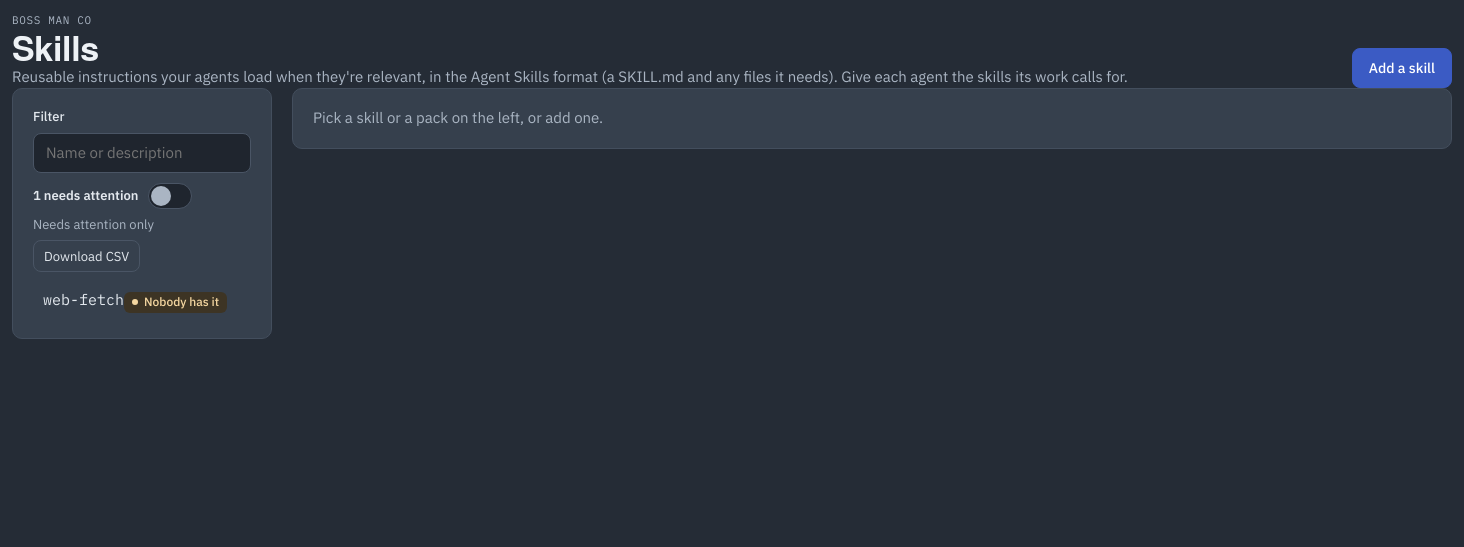
Test: skills › marks a skill as needing the browser add-on (docs/12)
The image size is (1464, 547).
Click the link "web-fetch Nobody has it".
click(135, 302)  # box left=43, top=290, right=227, bottom=313
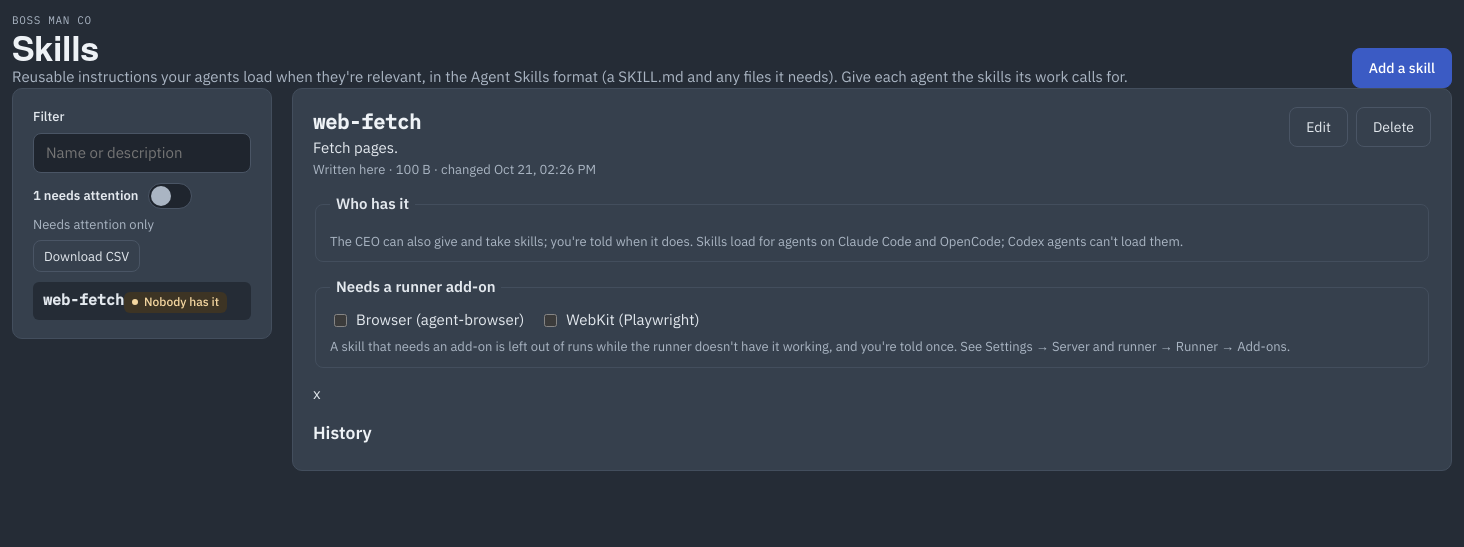
Click the checkbox labelled "Browser (agent-browser)".
click(340, 320)  # box left=334, top=314, right=347, bottom=327
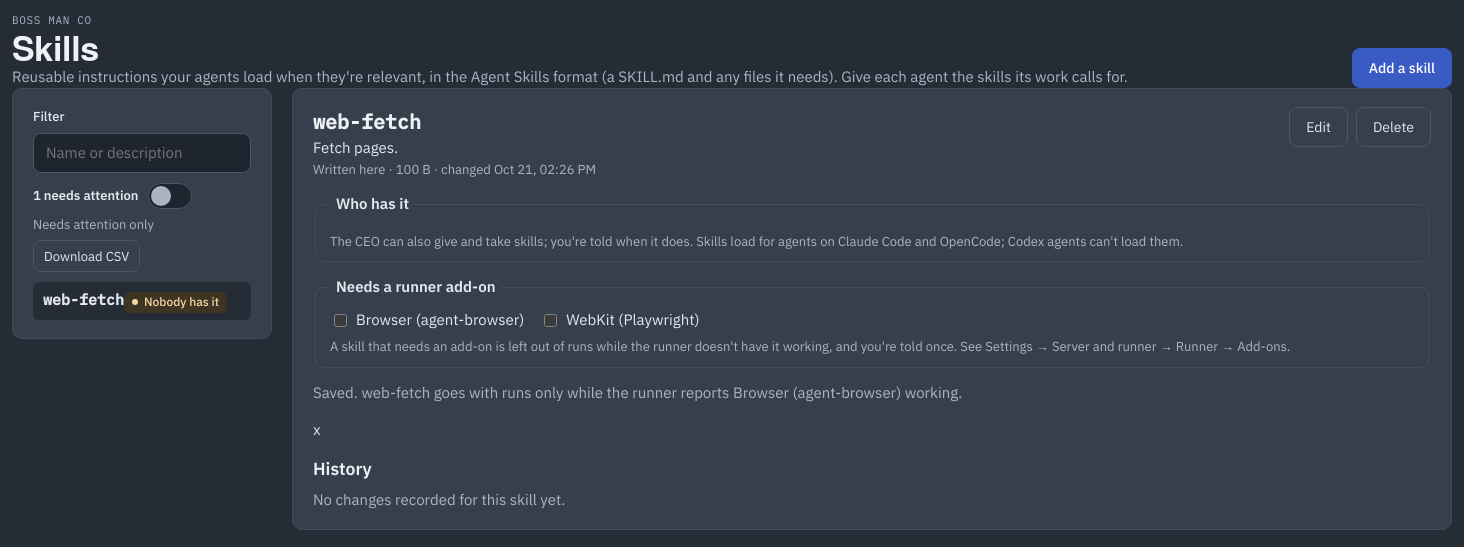
Check: the text "goes with runs only while the runner reports Browser (agent-browser) working" is shown, box left=313, top=383, right=962, bottom=402
